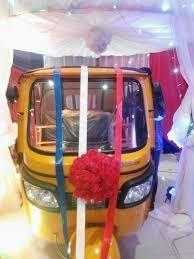keke: (7, 64, 166, 259)
